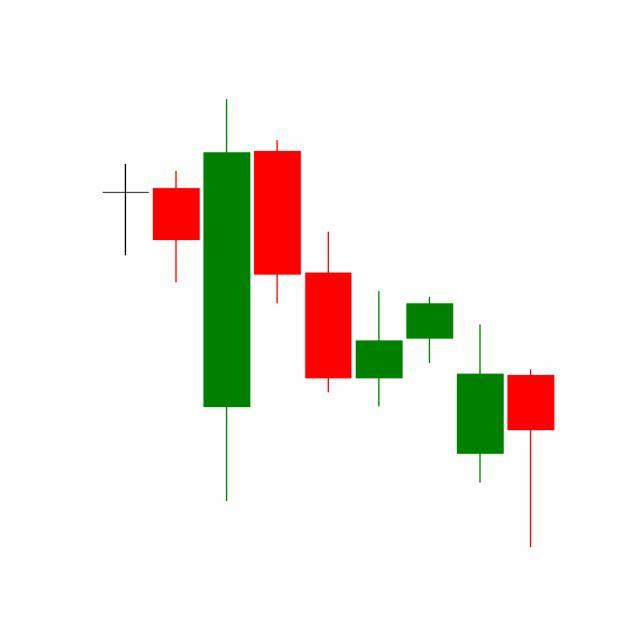Hikkake Pattern: (252, 136, 506, 487)
